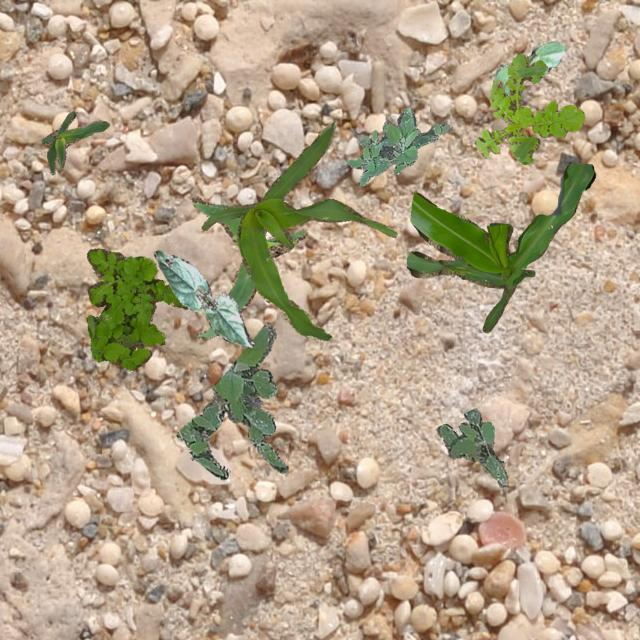crop: (200, 120, 396, 340), (406, 162, 594, 330), (190, 196, 306, 340), (154, 250, 252, 346), (41, 110, 108, 174), (492, 40, 564, 96)
weed: (176, 321, 286, 478), (86, 248, 188, 370), (474, 53, 584, 164), (346, 104, 452, 184), (436, 408, 506, 486)
